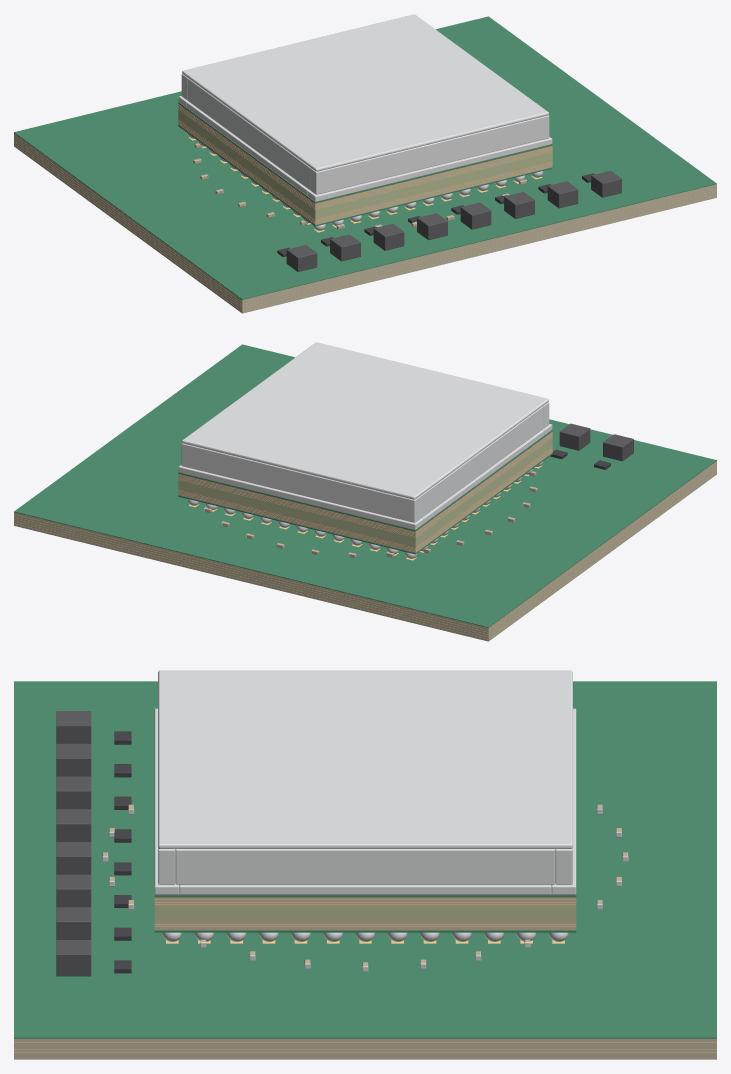
The model's file is package_scene.glb.
3 views of the same model, one above another, from view 1: azimuth 30°, elevation 25°; view 2: azimuth 150°, elevation 25°; view 3: azimuth 270°, elevation 25° (orthographic). The views are drawn at different scales.
Visible parts, largest first — view 1: server-pcb__mask14, lid__plate1690__e11, server-pcb__board13, server-pcb__components257, lid__skirt1692__e11, substrate-core__core440__e4__vorganic-core, substrate__stiffener655__e6, lid__skirt1694__e11, substrate-buildup__top649__e5, substrate-buildup__bottom439__e3, bga__balls427__e1, solder-mask__top650__e6 (+1 smaller); view 2: server-pcb__mask14, lid__plate1690__e11, server-pcb__board13, lid__skirt1691__e11, substrate-core__core440__e4__vorganic-core, substrate__stiffener655__e6, lid__skirt1694__e11, substrate-buildup__top649__e5, substrate-buildup__bottom439__e3, server-pcb__components257, bga__balls427__e1, solder-mask__top650__e6 (+1 smaller); view 3: server-pcb__mask14, lid__plate1690__e11, server-pcb__board13, lid__skirt1693__e11, server-pcb__components257, substrate-core__core440__e4__vorganic-core, substrate__stiffener655__e6, substrate-buildup__top649__e5, substrate-buildup__bottom439__e3, bga__balls427__e1, solder-mask__top650__e6, solder-mask__bottom428__e2 (+2 smaller).
Part boxes in pixels (x1,y1,x2,y2): server-pcb__mask14: [14, 16, 716, 299]; lid__plate1690__e11: [182, 14, 548, 171]; server-pcb__board13: [14, 133, 716, 313]; server-pcb__components257: [193, 143, 621, 271]; lid__skirt1692__e11: [310, 115, 549, 194]; substrate-core__core440__e4__vorganic-core: [178, 109, 552, 218]; substrate__stiffener655__e6: [178, 96, 552, 201]; lid__skirt1694__e11: [187, 78, 310, 190]; substrate-buildup__top649__e5: [178, 103, 552, 209]; substrate-buildup__bottom439__e3: [178, 119, 552, 224]; bga__balls427__e1: [187, 133, 543, 230]; solder-mask__top650__e6: [178, 102, 552, 203]; server-pcb__mask14: [14, 344, 716, 627]; lid__plate1690__e11: [182, 342, 548, 499]; server-pcb__board13: [14, 461, 716, 641]; lid__skirt1691__e11: [181, 443, 420, 522]; substrate-core__core440__e4__vorganic-core: [178, 437, 552, 546]; substrate__stiffener655__e6: [178, 424, 552, 529]; lid__skirt1694__e11: [420, 406, 543, 518]; substrate-buildup__top649__e5: [178, 431, 552, 537]; substrate-buildup__bottom439__e3: [178, 447, 552, 552]; server-pcb__components257: [204, 423, 633, 557]; bga__balls427__e1: [187, 461, 543, 558]; solder-mask__top650__e6: [178, 430, 552, 531]; server-pcb__mask14: [14, 681, 716, 1038]; lid__plate1690__e11: [158, 670, 572, 848]; server-pcb__board13: [14, 1038, 716, 1059]; lid__skirt1693__e11: [175, 849, 555, 884]; server-pcb__components257: [56, 711, 628, 976]; substrate-core__core440__e4__vorganic-core: [154, 906, 576, 920]; substrate__stiffener655__e6: [154, 708, 576, 894]; substrate-buildup__top649__e5: [154, 897, 576, 906]; substrate-buildup__bottom439__e3: [154, 921, 576, 930]; bga__balls427__e1: [162, 932, 568, 941]; solder-mask__top650__e6: [154, 894, 576, 897]; solder-mask__bottom428__e2: [154, 930, 576, 932].
Size of the model in its own units: 24 by 3.9 by 20.
